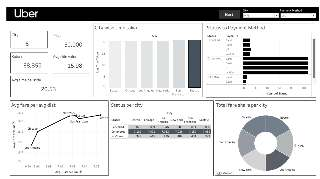

The dashboard page shown, as its layout file describes it:
{"tool":"tableau","page":{"name":"Dashboard 1","canvas":[1366,768],"ordinal":0},"visuals":[{"type":"image","param":"/Users/harshita/Desktop/uber/Screenshot 2026-03-15 at 1.22.16 PM.png","box":[5,10,1361,59]},{"type":"filter","title":"Sheet 6","param":"[federated.0yblks70yo8yl41bz597l0zo6978].[none:city:nk]","box":[1035,16,160,42]},{"type":"filter","title":"Sheet 9","param":"[federated.0yblks70yo8yl41bz597l0zo6978].[none:payment_method:nk]","box":[1197,16,160,47]},{"type":"dashboard-object","box":[930,24,93,36]},{"type":"worksheet","title":"Sheet 8","mark":"Automatic","rows":["Calculation_4547433817214979"],"cols":["city"],"box":[385,80,476,323]},{"type":"worksheet","title":"Sheet 9","mark":"Automatic","rows":["status","payment_method"],"cols":["status"],"box":[874,80,480,324]},{"type":"worksheet","title":"Sheet 2","mark":"Automatic","box":[23,114,162,76]},{"type":"worksheet","title":"Sheet 3","mark":"Automatic","box":[202,117,169,76]},{"type":"worksheet","title":"Sheet 4","mark":"Automatic","box":[22,208,164,91]},{"type":"worksheet","title":"Sheet 5","mark":"Automatic","box":[203,209,168,90]},{"type":"worksheet","title":"Sheet 7","mark":"Automatic","box":[22,311,353,91]},{"type":"worksheet","title":"Sheet 10","mark":"Line","rows":["fare_amount"],"cols":["distance_km"],"box":[21,417,429,328]},{"type":"worksheet","title":"Sheet 6","mark":"Square","rows":["status"],"cols":["city"],"box":[456,417,452,329]},{"type":"worksheet","title":"Sheet 11","box":[914,417,442,328]}]}

Visuals, with their boxes in screenshot pixels (x1, y1, x2, y2):
image: bbox=[4, 6, 318, 19]
"Sheet 6" filter: bbox=[241, 7, 278, 17]
"Sheet 9" filter: bbox=[279, 7, 316, 18]
dashboard-object: bbox=[217, 9, 239, 17]
"Sheet 8" worksheet: bbox=[92, 22, 201, 96]
"Sheet 9" worksheet: bbox=[204, 22, 315, 96]
"Sheet 2" worksheet: bbox=[9, 30, 46, 47]
"Sheet 3" worksheet: bbox=[50, 30, 89, 48]
"Sheet 4" worksheet: bbox=[8, 51, 46, 72]
"Sheet 5" worksheet: bbox=[50, 51, 89, 72]
"Sheet 7" worksheet: bbox=[8, 75, 90, 96]
"Sheet 10" worksheet (Line marks): bbox=[8, 99, 107, 175]
"Sheet 6" worksheet (Square marks): bbox=[108, 99, 212, 175]
"Sheet 11" worksheet: bbox=[214, 99, 315, 175]
